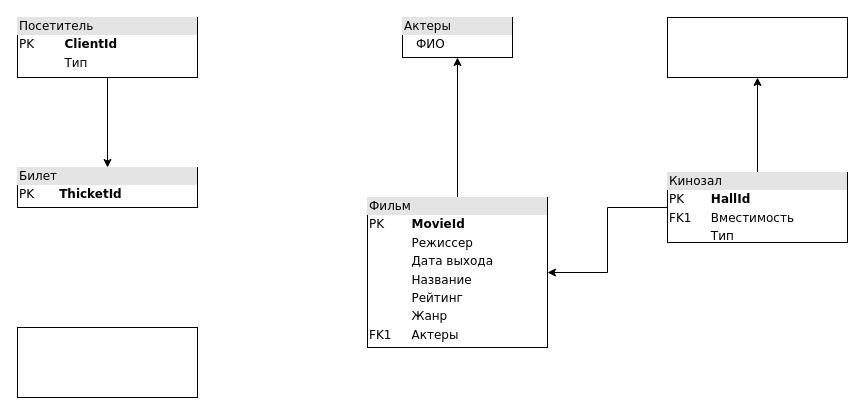
The diagram is 865 pixels wide and 415 high, and some of its shapes have lost their labels. The shapes that lost their labels are listed below. From the top down, each one's centre as x and y in pixels, then its label:
[757,47]: Место PK SeatId Расположение
[107,362]: Работник PK EmployerId FK1 Должность ФИО
